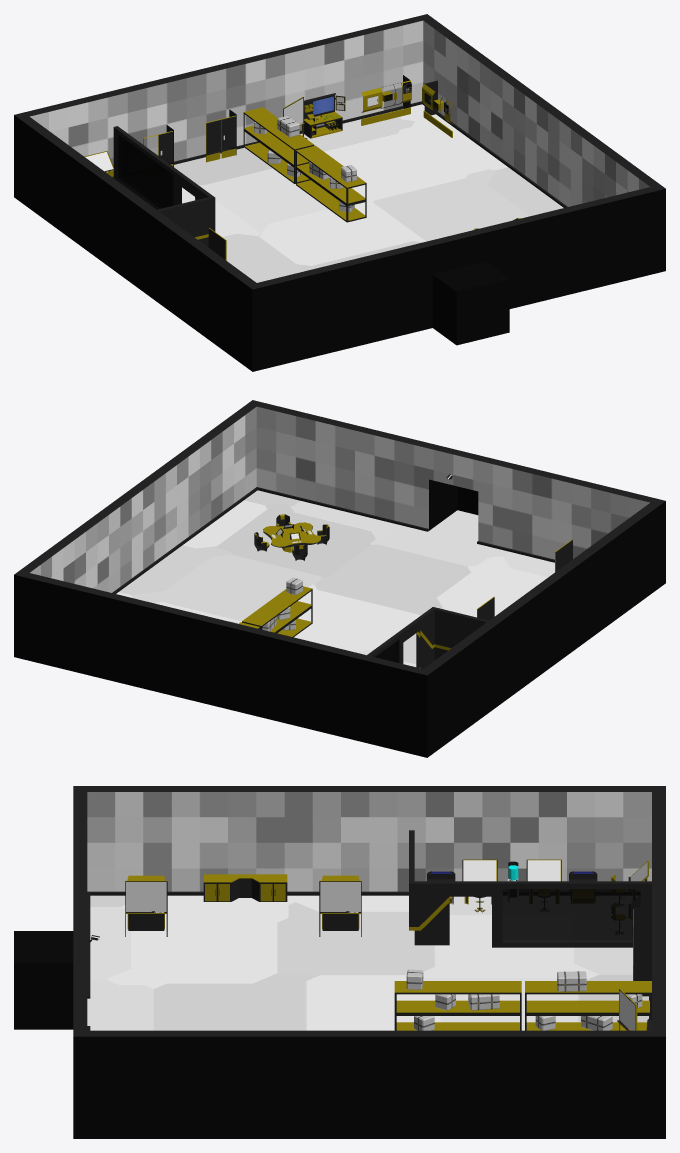
Rendered from Engineering_Room.fbx.
The picture shows the model from 3 angles, top to bottom: view 1: azimuth 30°, elevation 25°; view 2: azimuth 150°, elevation 25°; view 3: azimuth 270°, elevation 25°; orthographic projection. The views are drawn at different scales.
Parts seen in each view (by area): view 1: Room_1x1x1.005; view 2: Room_1x1x1.005; view 3: Room_1x1x1.005.
Part boxes in pixels (left/top/right/bottom): Room_1x1x1.005: left=14, top=14, right=665, bottom=371; Room_1x1x1.005: left=14, top=400, right=665, bottom=757; Room_1x1x1.005: left=14, top=786, right=665, bottom=1138.
Bounding box in the file's own units: 42 × 46.2 × 8.05.
